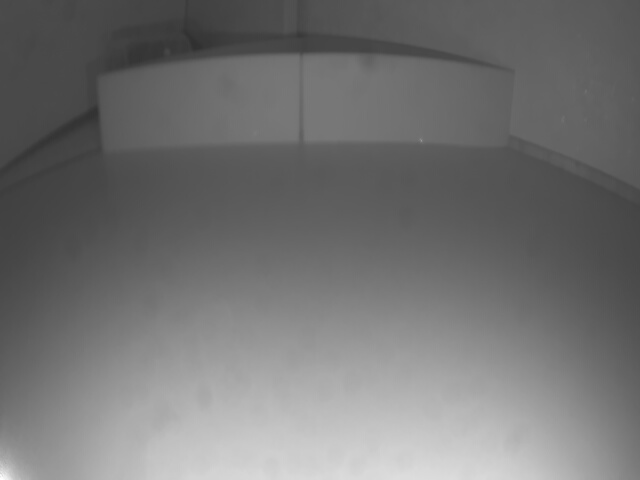Red: (103, 56, 513, 158)
